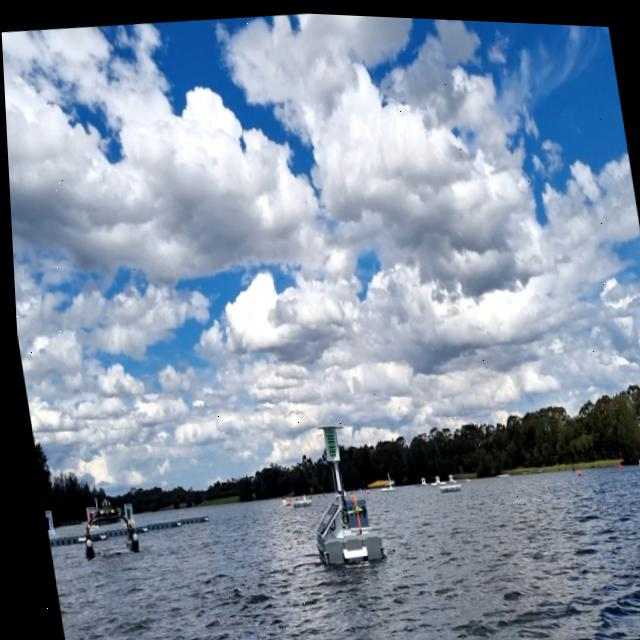led: (319, 426, 333, 457)
